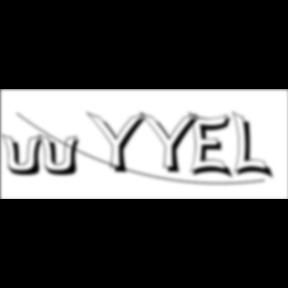E: (189, 110, 238, 182)
L: (232, 110, 276, 182)
Y: (138, 110, 206, 176), (86, 110, 152, 176)
u: (1, 132, 49, 178), (38, 132, 86, 178)
